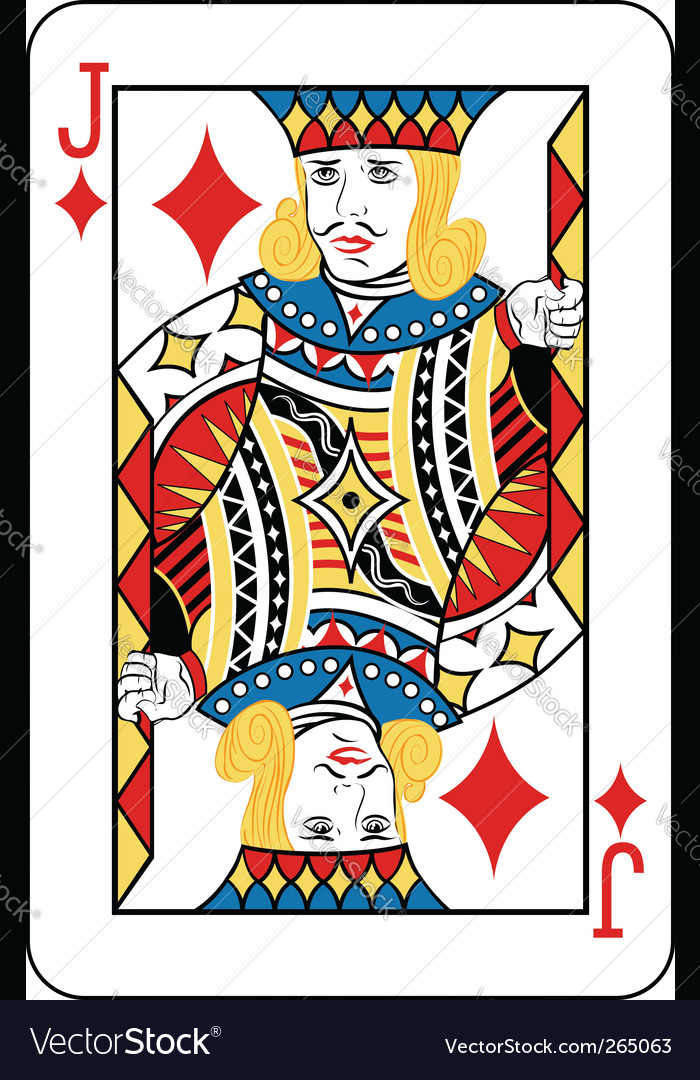jack of hearts: (34, 2, 667, 995)
